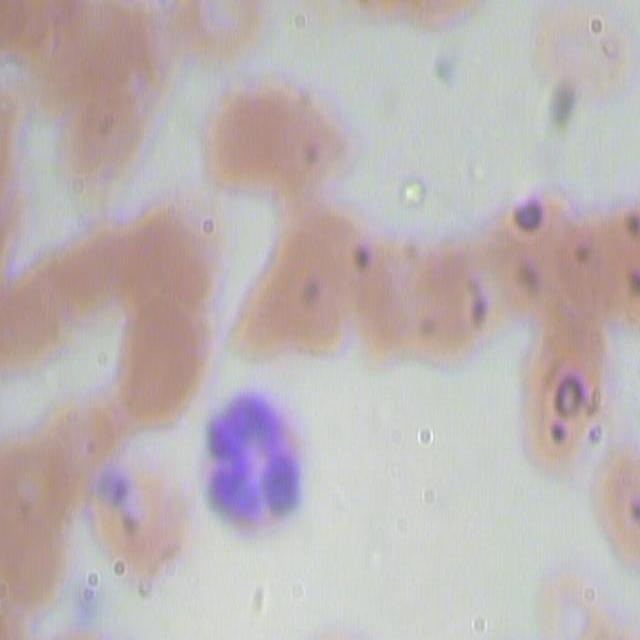RBC: (271, 250, 518, 368), (504, 163, 630, 327), (0, 418, 91, 628), (76, 421, 184, 592), (15, 0, 182, 108), (217, 87, 355, 210), (528, 340, 598, 504), (59, 243, 220, 309), (538, 3, 634, 111), (4, 252, 82, 368), (153, 0, 274, 70), (74, 121, 152, 229), (125, 328, 212, 414), (612, 452, 640, 602)
WBC: (198, 362, 322, 558)
